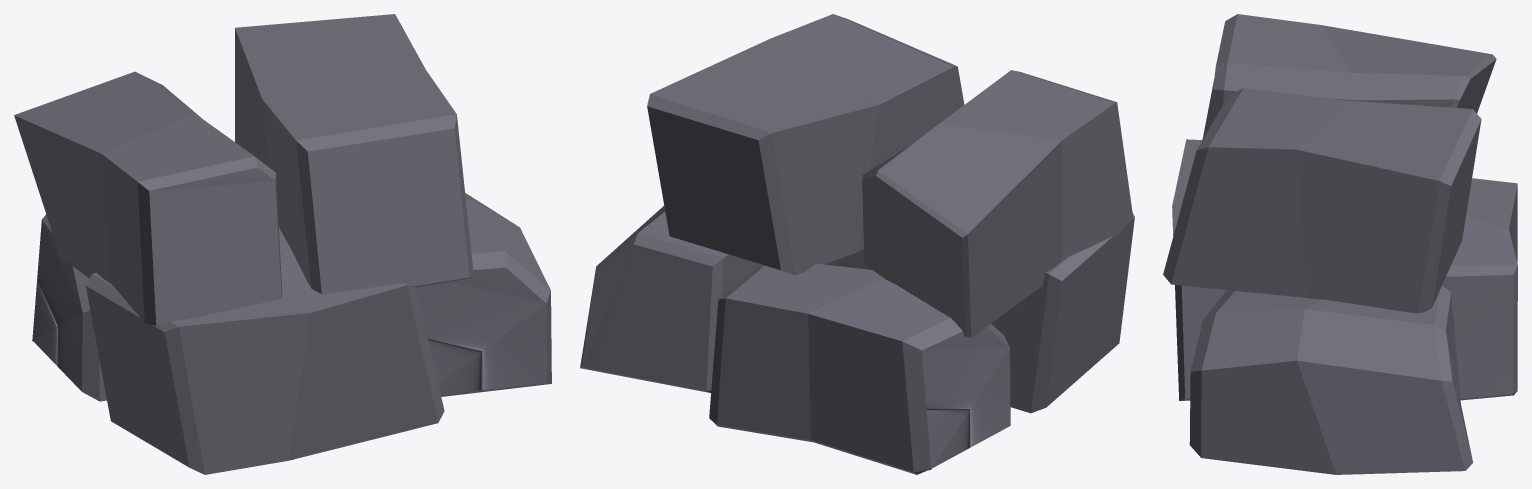
The model's file is ExplodedCutRockPile.fbx.
3 renders of one model, left to right at view 1: azimuth 30°, elevation 25°; view 2: azimuth 150°, elevation 25°; view 3: azimuth 270°, elevation 25°, orthographic. The views are drawn at different scales.
Visible parts, largest first — view 1: CutRockPile Disconected.001, CutRockPile.007, CutRockPile.009, CutRockPile.008, CutRockPile.006; view 2: CutRockPile Disconected.001, CutRockPile.009, CutRockPile.006, CutRockPile.008, CutRockPile.007; view 3: CutRockPile Disconected.001, CutRockPile.008, CutRockPile.009, CutRockPile.006, CutRockPile.007.
Part boxes in pixels (box(x1,y1,x2,y2)): CutRockPile Disconected.001: box(235, 14, 473, 294); CutRockPile.007: box(86, 228, 444, 474); CutRockPile.009: box(14, 71, 282, 325); CutRockPile.008: box(416, 193, 551, 396); CutRockPile.006: box(32, 214, 106, 401); CutRockPile Disconected.001: box(647, 14, 964, 275); CutRockPile.009: box(862, 70, 1133, 337); CutRockPile.006: box(709, 263, 1010, 474); CutRockPile.008: box(580, 206, 759, 392); CutRockPile.007: box(825, 212, 1134, 413); CutRockPile Disconected.001: box(1163, 88, 1481, 313); CutRockPile.008: box(1189, 286, 1472, 474); CutRockPile.009: box(1202, 14, 1496, 139); CutRockPile.006: box(1442, 178, 1517, 400); CutRockPile.007: box(1172, 139, 1226, 400).
Bounding box in the file's own units: 421 × 280 × 322.
